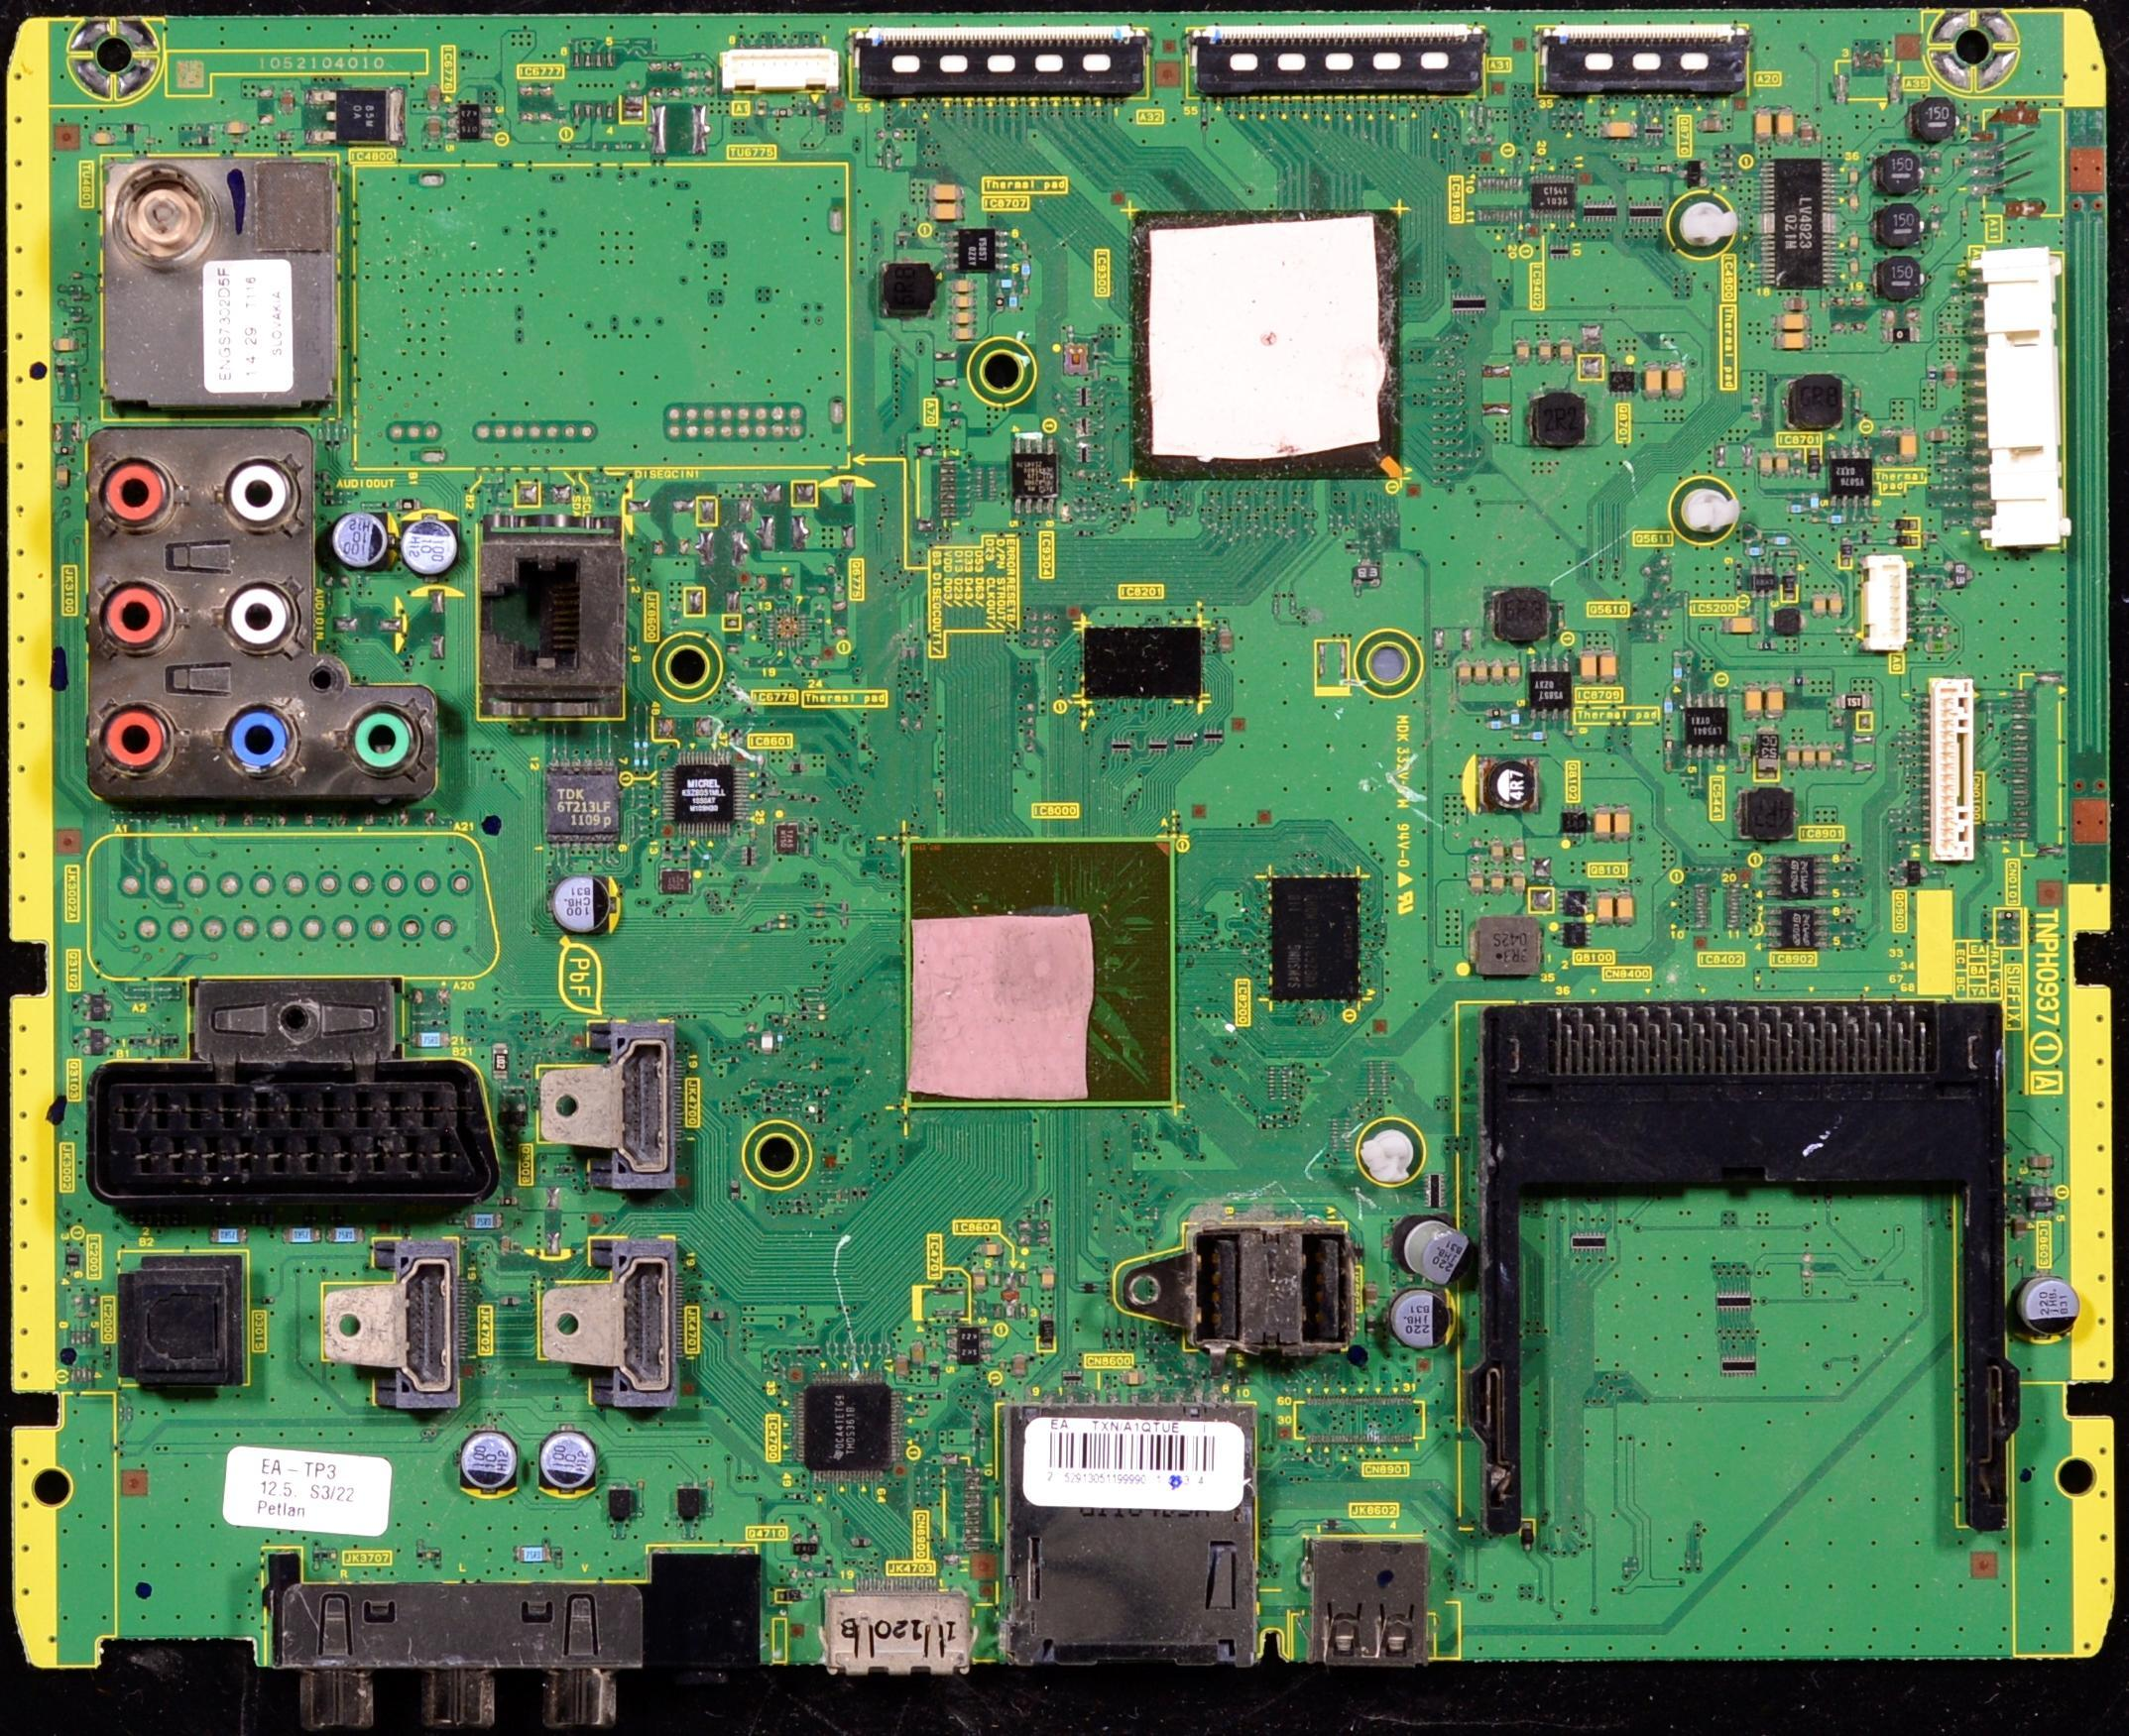Capacitor: (1406, 1218, 1480, 1291), (2018, 1276, 2081, 1342), (1392, 1294, 1455, 1352), (539, 1432, 596, 1497), (553, 877, 610, 939), (462, 1432, 518, 1490), (401, 518, 456, 578), (332, 514, 385, 575), (1602, 118, 1639, 145), (1774, 329, 1812, 354), (930, 200, 965, 225), (1579, 649, 1602, 686), (1752, 110, 1777, 143), (1644, 364, 1667, 400), (1726, 615, 1761, 638), (1897, 431, 1922, 463), (1774, 313, 1812, 332), (1742, 686, 1765, 718), (1613, 808, 1634, 841), (1616, 891, 1637, 925), (1777, 110, 1798, 141), (1602, 649, 1620, 686), (1597, 808, 1614, 845), (1666, 364, 1685, 398), (1597, 889, 1616, 923), (1765, 688, 1788, 716), (1512, 338, 1535, 364), (1489, 840, 1512, 866), (930, 184, 964, 202), (1455, 656, 1473, 688), (1471, 658, 1491, 686), (1800, 746, 1820, 773), (1828, 592, 1846, 621), (1812, 594, 1830, 622), (1491, 658, 1508, 686), (1036, 1268, 1056, 1292), (1816, 746, 1834, 773), (1788, 746, 1805, 773), (909, 1340, 925, 1368), (953, 292, 974, 313), (1759, 451, 1775, 479), (1123, 1370, 1146, 1390), (1537, 339, 1556, 362), (1010, 1354, 1027, 1379), (953, 278, 974, 297), (1487, 875, 1508, 895), (1558, 339, 1576, 362), (1510, 840, 1528, 863), (1508, 658, 1522, 686), (981, 1243, 1006, 1259), (973, 1269, 988, 1294), (1471, 870, 1487, 895), (955, 324, 976, 341), (897, 1354, 911, 1379), (953, 313, 978, 327), (1775, 453, 1789, 477), (1512, 870, 1526, 891)
IC: (904, 834, 1183, 1110), (1128, 210, 1400, 479), (1003, 1400, 1259, 1669), (1963, 251, 2064, 552), (792, 1374, 905, 1487), (1270, 875, 1365, 1004), (1920, 679, 1977, 863), (1758, 159, 1834, 290), (1082, 626, 1201, 705), (661, 755, 753, 836), (1682, 691, 1735, 760), (1011, 438, 1059, 514), (1526, 654, 1576, 725), (1763, 903, 1832, 953), (1827, 447, 1874, 511), (1765, 859, 1834, 900), (1530, 175, 1581, 216), (1749, 566, 1779, 601), (1834, 695, 1869, 709)
Resistor: (311, 88, 403, 145), (946, 1326, 994, 1367), (447, 103, 495, 141), (1834, 695, 1871, 711), (1841, 541, 1855, 569)
iC: (942, 230, 1010, 274)
